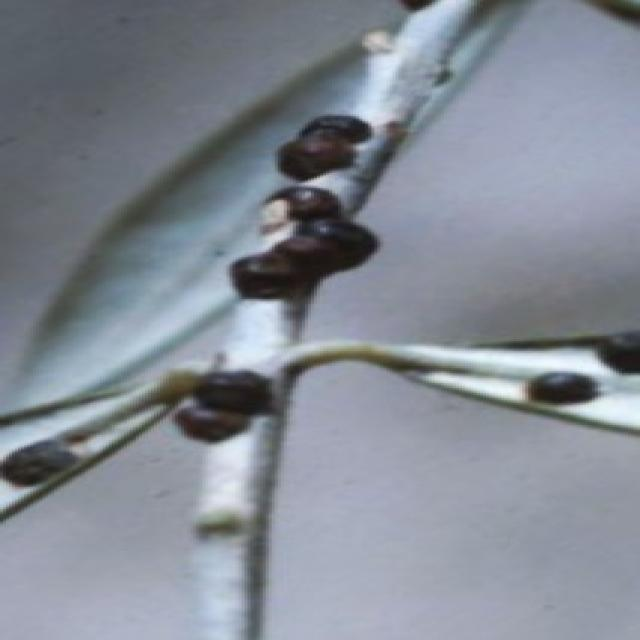BlackScale: (226, 186, 378, 299), (172, 369, 269, 442), (278, 114, 372, 180), (0, 440, 78, 486), (522, 371, 600, 405)
